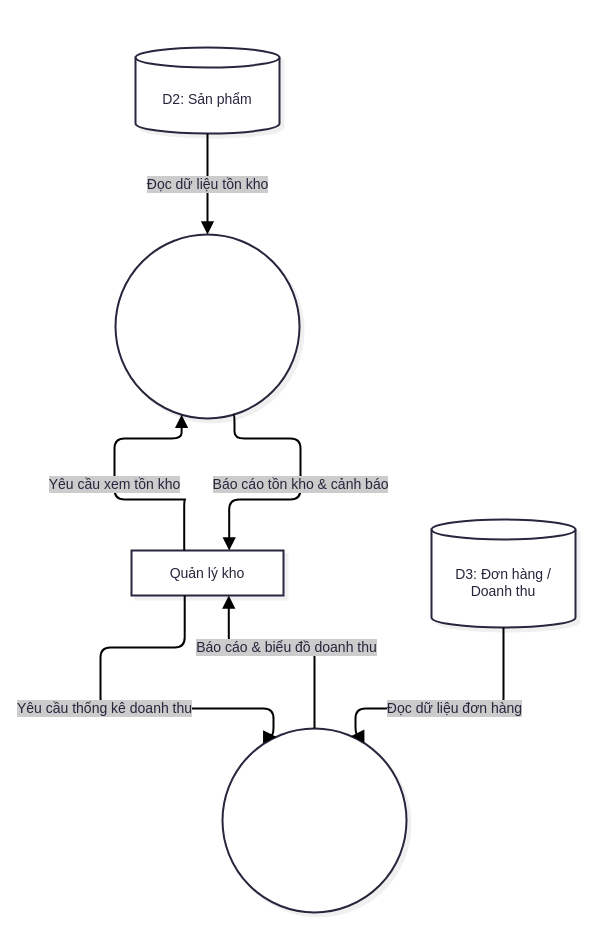
Some shapes in this 598 by 934 pixel diagram are drawn without their labels. The centre of each missing label's shape, as x and y in pixels:
"1.1 Thống kê tồn kho" goes at point 209,328.
"1.2 Thống kê doanh thu" goes at point 316,822.
